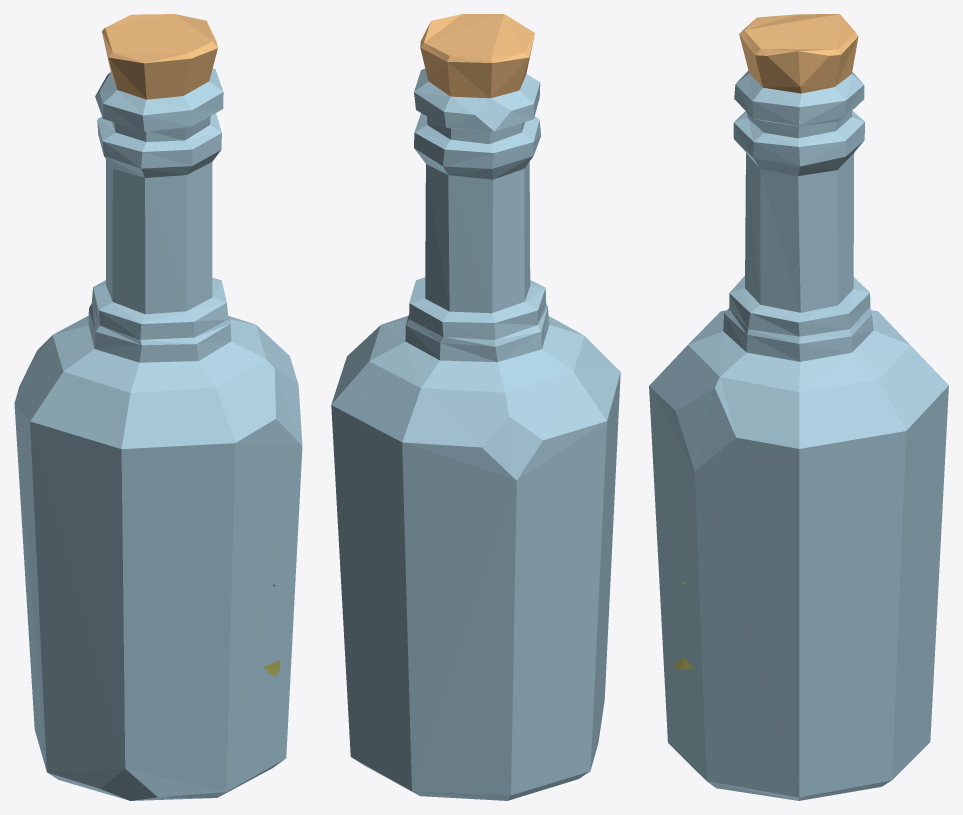
Rendered from SFHW_Bottle_Herbs_008.fbx.
3 renders of one model, left to right at view 1: azimuth 30°, elevation 25°; view 2: azimuth 150°, elevation 25°; view 3: azimuth 270°, elevation 25°, orthographic.
Visible parts, largest first — view 1: SFHW_Bottle_Herbs_008; view 2: SFHW_Bottle_Herbs_008; view 3: SFHW_Bottle_Herbs_008.
Part boxes in pixels (x1,y1,x2,y2): SFHW_Bottle_Herbs_008: [14, 14, 302, 800]; SFHW_Bottle_Herbs_008: [331, 14, 620, 800]; SFHW_Bottle_Herbs_008: [649, 14, 948, 800].
Bounding box in the file's own units: 12.48 × 33.16 × 12.44.
